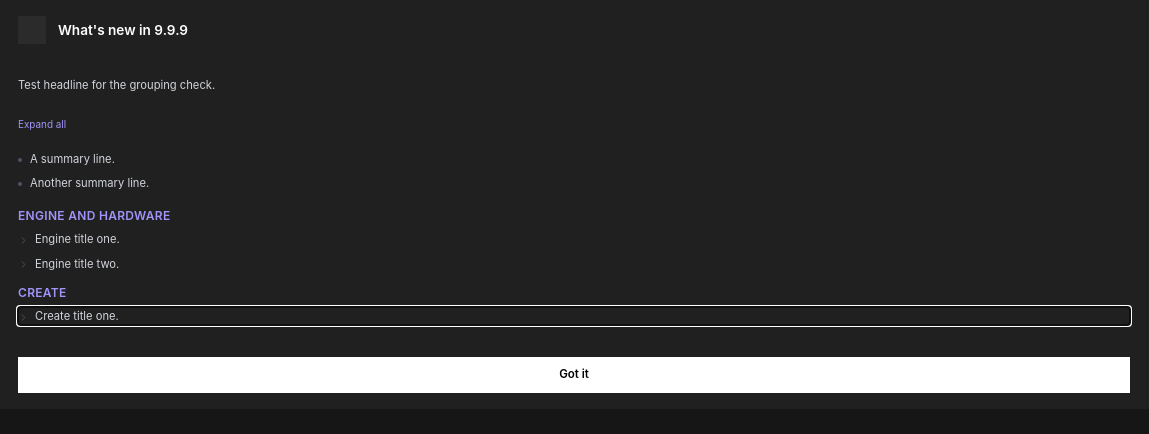
Test: grouped changes › opens the same row on Enter, the way any button does
Press Enter in the button "Create title one.", box [18,307,1130,325]
Click the button "Create title one.": (77, 316) [18,307,1130,325]
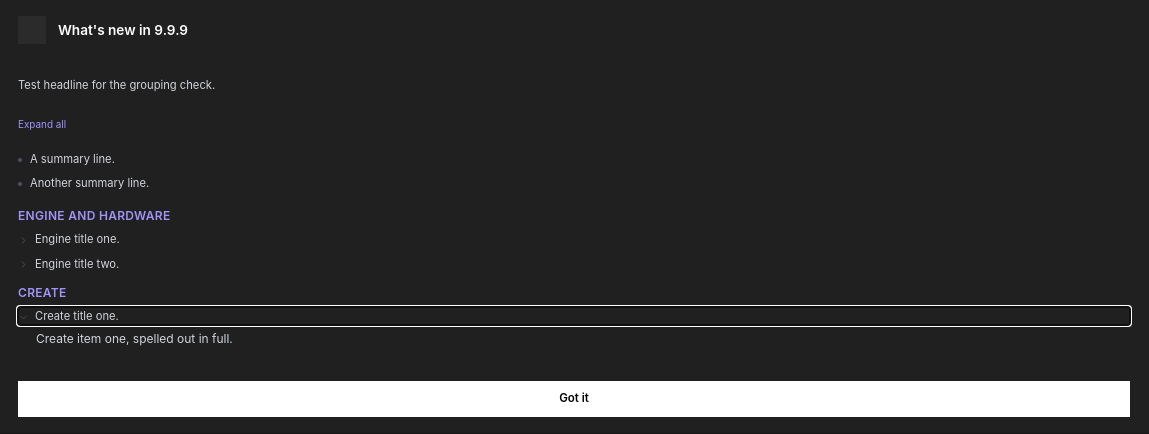
Now the text "Create item one, spelled out in full." is shown, box [36,331,233,346]
